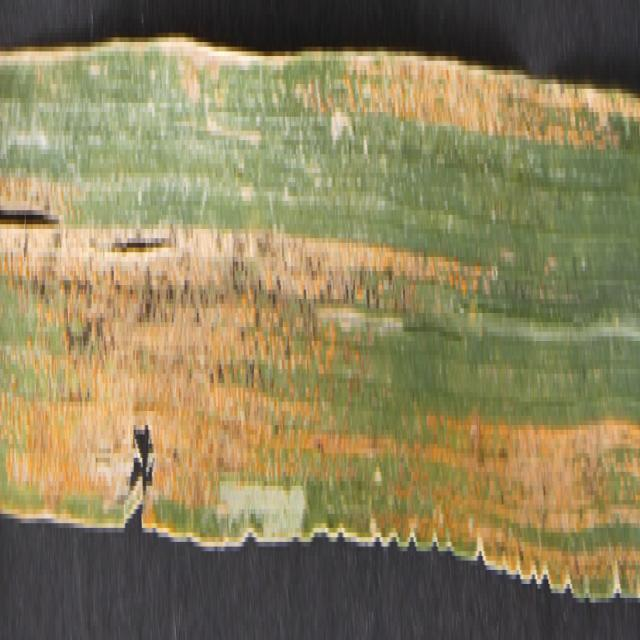leaf rust: (1, 32, 638, 602)
